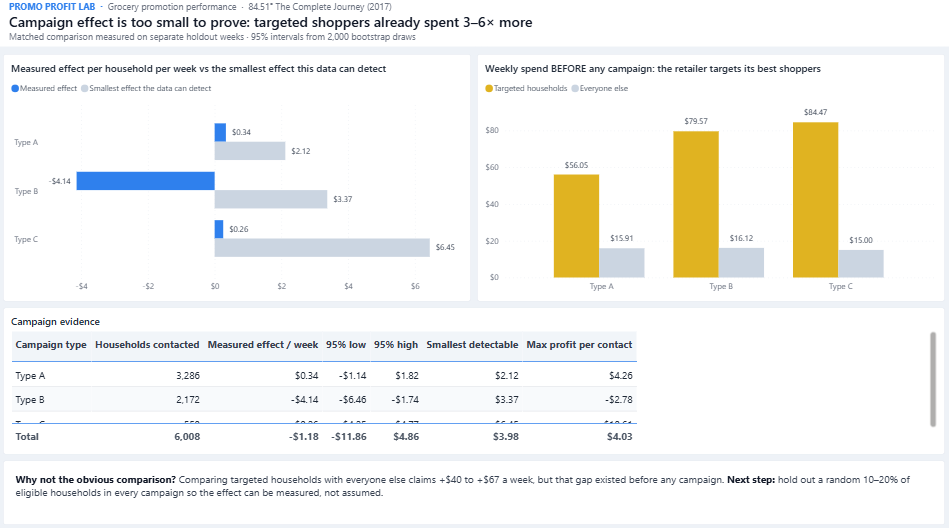

Layout of this report page (visuals, bound fields, positions):
{"tool":"powerbi","page":{"name":"Campaigns","canvas":[1280,720],"ordinal":3},"visuals":[{"type":"textbox","box":[0,0,1280,70],"z":1000},{"type":"clusteredBarChart","title":"Measured effect per household per week vs the smallest effect this data can detect","fields":{"Category":["campaign_results.campaign_type"],"Y":["_Measures.Matched Holdout (correct)","_Measures.Smallest Detectable Effect"]},"box":[12,80,624,330],"z":2000},{"type":"clusteredColumnChart","title":"Weekly spend BEFORE any campaign: the retailer targets its best shoppers","fields":{"Category":["campaign_results.campaign_type"],"Y":["_Measures.Pre-campaign Spend (targeted)","_Measures.Pre-campaign Spend (everyone else)"]},"box":[644,80,624,330],"z":3000},{"type":"tableEx","title":"Campaign evidence","fields":{"Values":["campaign_results.campaign_type","Sum(campaign_results.households_exposures)","_Measures.Matched Holdout (correct)","Sum(campaign_results.lo)","Sum(campaign_results.hi)","_Measures.Smallest Detectable Effect","_Measures.GP per Contact (upper bound)"]},"box":[12,418,1256,214],"z":4000},{"type":"textbox","box":[12,640,1256,68],"z":5000}]}

Visuals, with their boxes in screenshot pixels (x1, y1, x2, y2), scaled from the page's 1280x720 canvas onto the 949x528 screenshot:
textbox: (left=0, top=0, right=948, bottom=51)
"Measured effect per household per week vs the smallest effect this data can detect" clusteredBarChart: (left=9, top=59, right=472, bottom=301)
"Weekly spend BEFORE any campaign: the retailer targets its best shoppers" clusteredColumnChart: (left=477, top=59, right=940, bottom=301)
"Campaign evidence" tableEx: (left=9, top=307, right=940, bottom=463)
textbox: (left=9, top=469, right=940, bottom=519)
